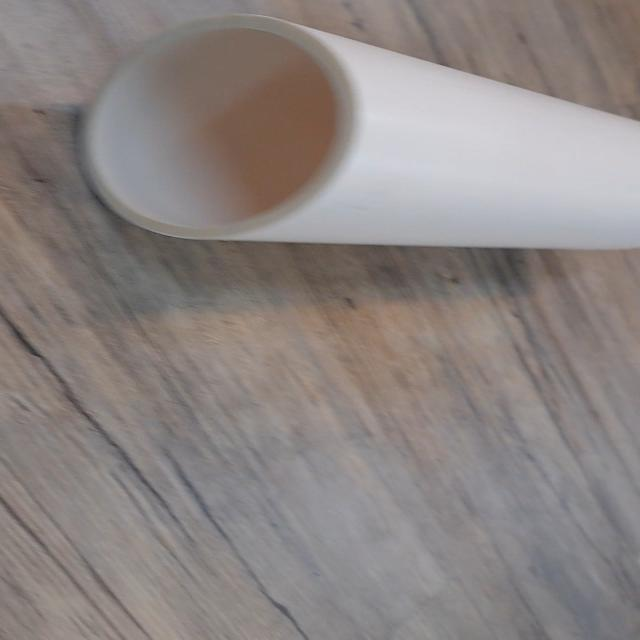CORAL: (66, 12, 640, 270)
